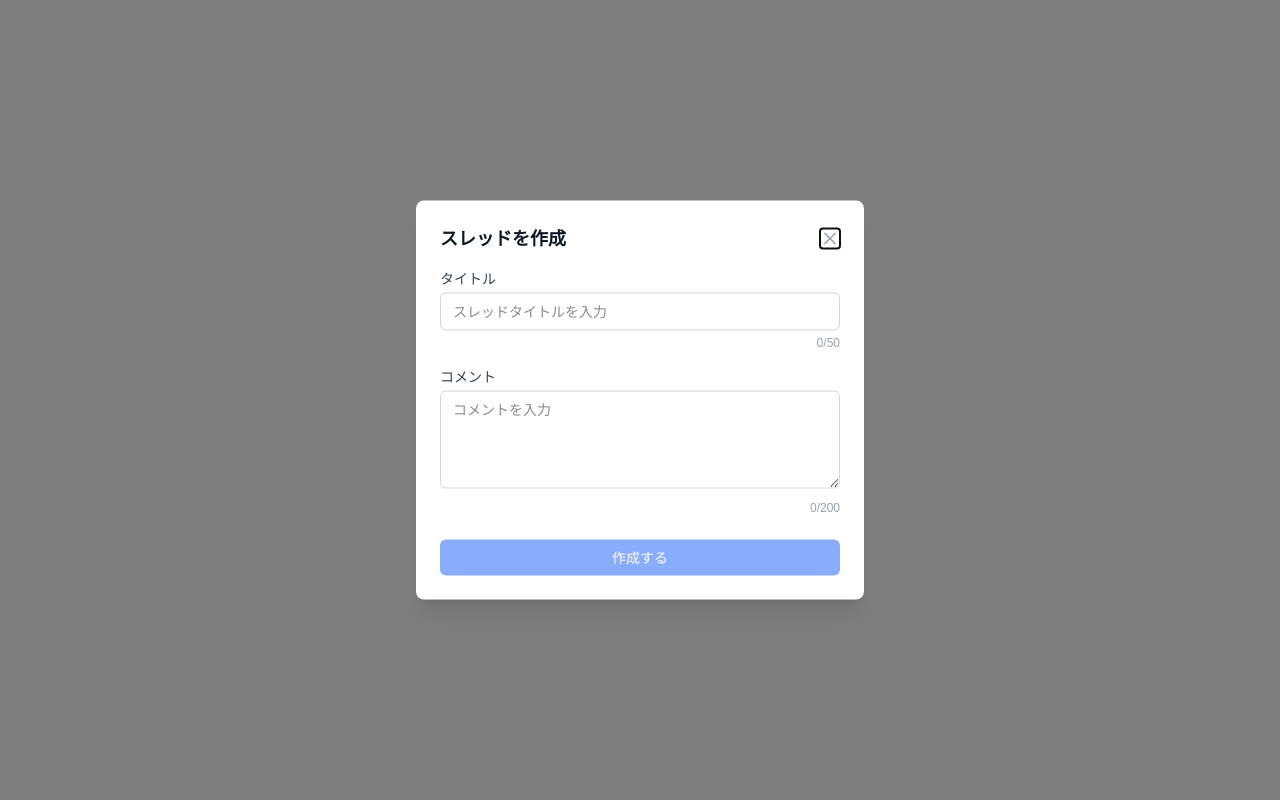
Scenario: CreateThreadModal › 有効な入力後に送信ボタンが有効になること
Type "テストタイトル" into the field with test id "thread-title-input" at (640, 312), box [440,292,840,330]
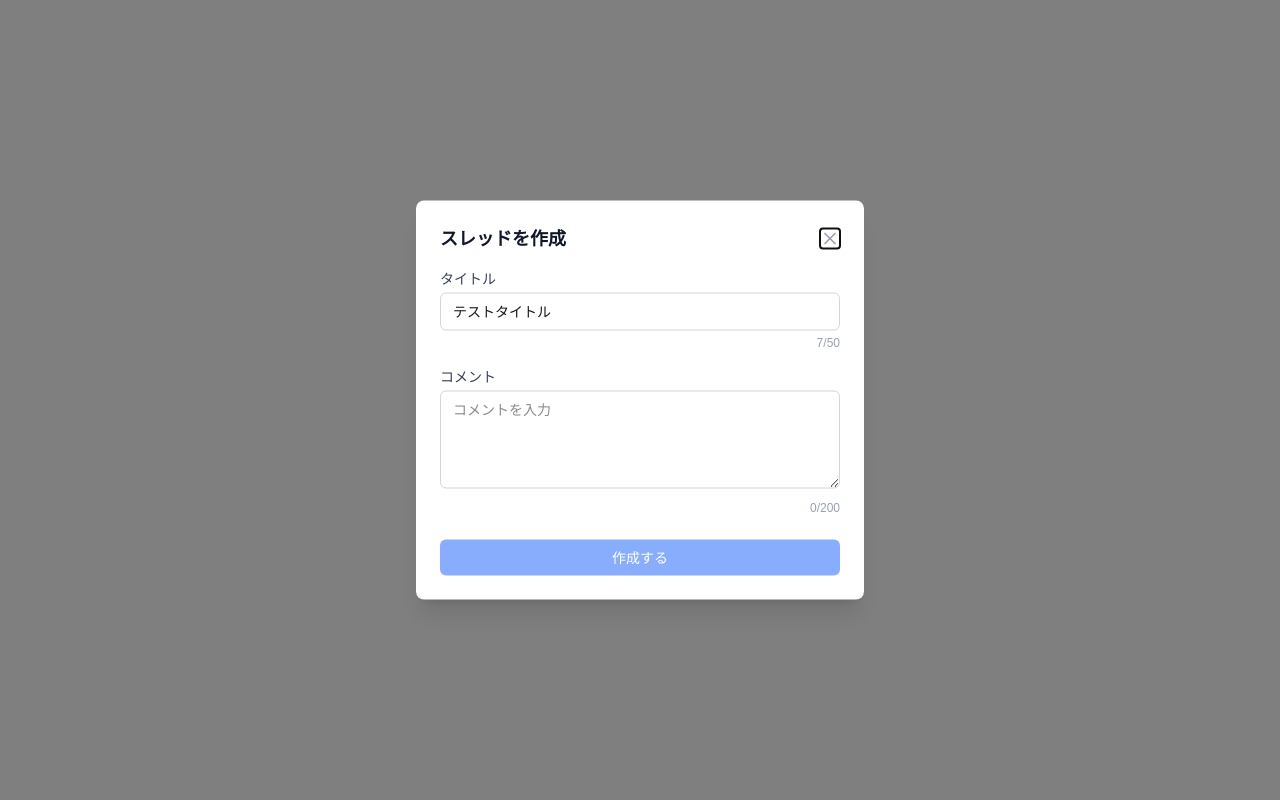
Type "テストコメント" into the text box with test id "thread-comment-input" at (640, 440), box [440,390,840,488]
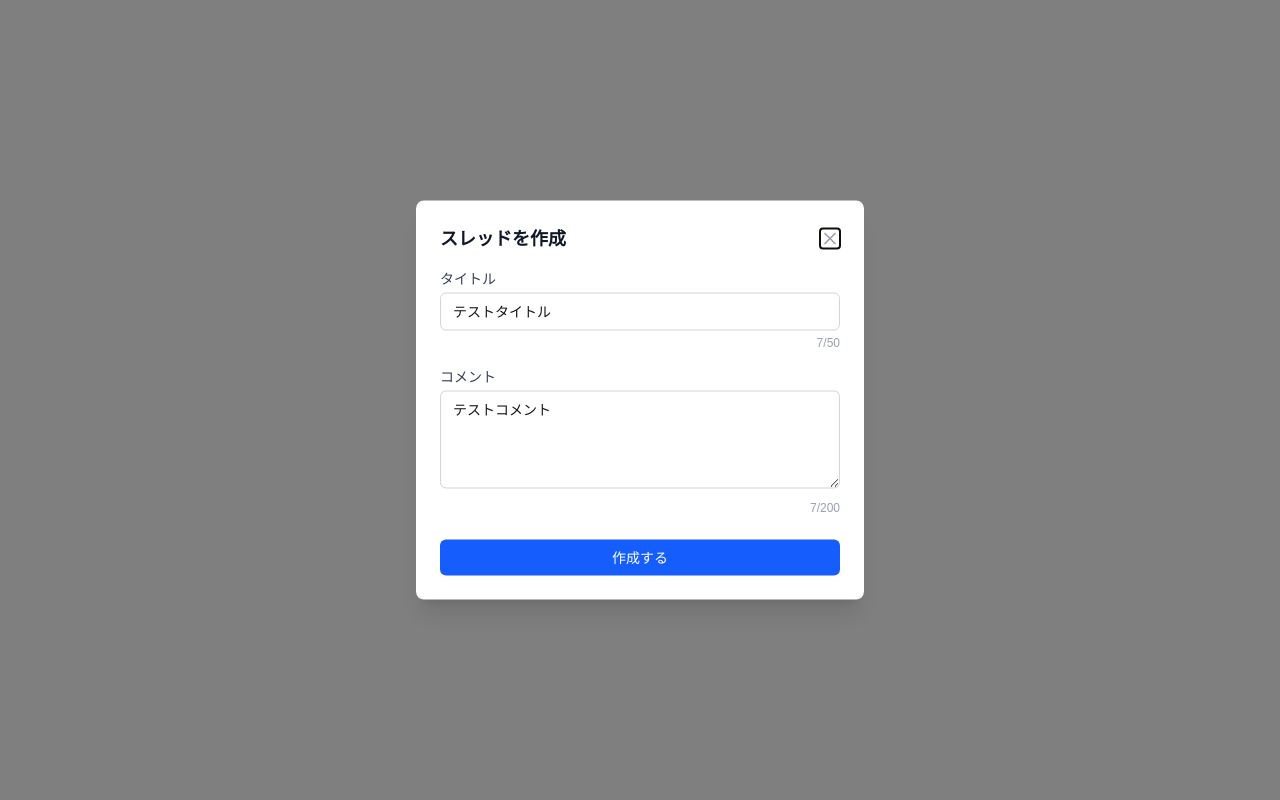
Expected: the button with test id "create-thread-submit" is enabled, [440,540,840,576]
